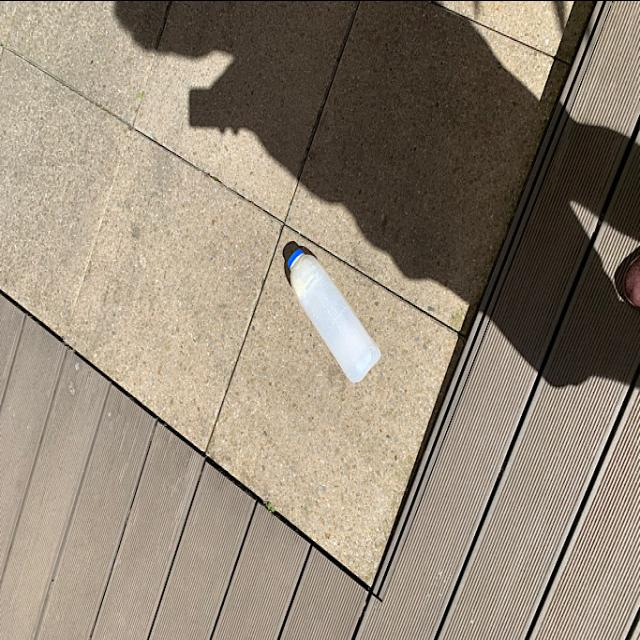litter: (284, 245, 385, 389)
